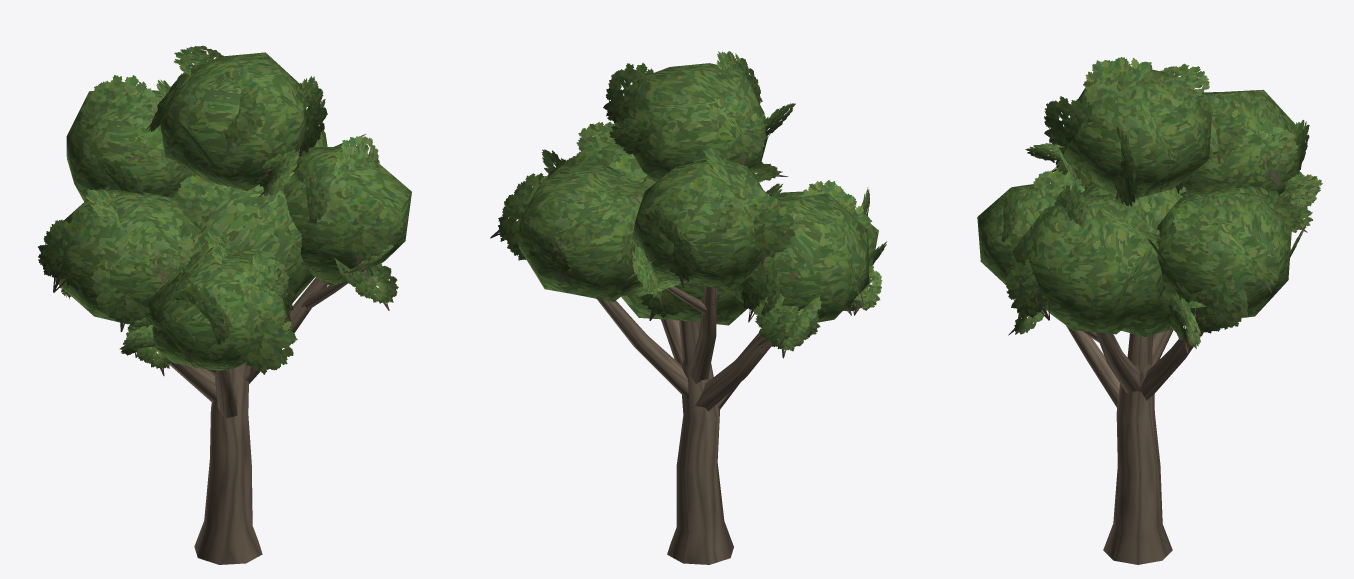
File: oak_summer.glb
3 views of the same model, side by side, from view 1: azimuth 30°, elevation 25°; view 2: azimuth 150°, elevation 25°; view 3: azimuth 270°, elevation 25° (orthographic).
Visible parts, largest first — view 1: oak_summer_mesh; view 2: oak_summer_mesh; view 3: oak_summer_mesh.
Boxes of the visible parts, box(x1,y1,x2,y2) form: oak_summer_mesh: box(38, 45, 411, 564); oak_summer_mesh: box(490, 51, 886, 564); oak_summer_mesh: box(977, 57, 1322, 564).
Size of the model in its own units: 3.77 by 5.24 by 3.67.
Materials: 3 (3 with a texture image).
